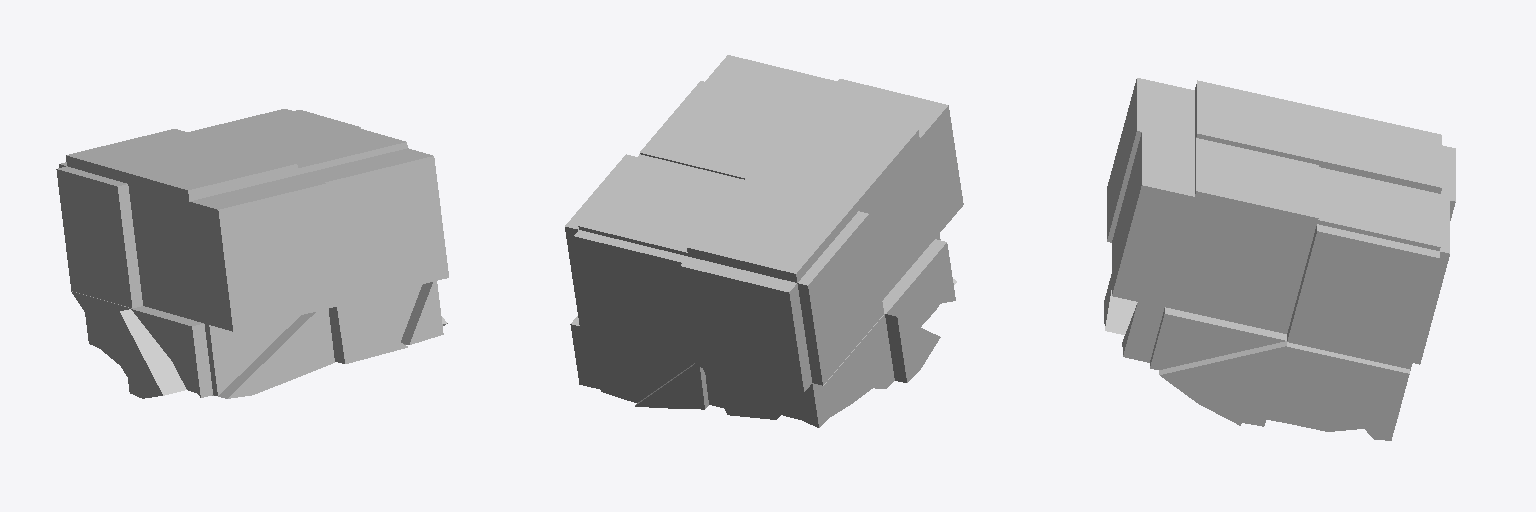
Rendered from pillar_3.obj.
3 views of the same model, side by side, from view 1: azimuth 30°, elevation 25°; view 2: azimuth 150°, elevation 25°; view 3: azimuth 270°, elevation 25° (orthographic).
Visible parts, largest first — view 1: Cube.008; view 2: Cube.008; view 3: Cube.008.
Boxes of the visible parts, <box> form: Cube.008: <box>56,109,448,398</box>; Cube.008: <box>565,55,963,427</box>; Cube.008: <box>1104,78,1455,440</box>.
Bounding box in the file's own units: 1.55 × 1.39 × 1.77.